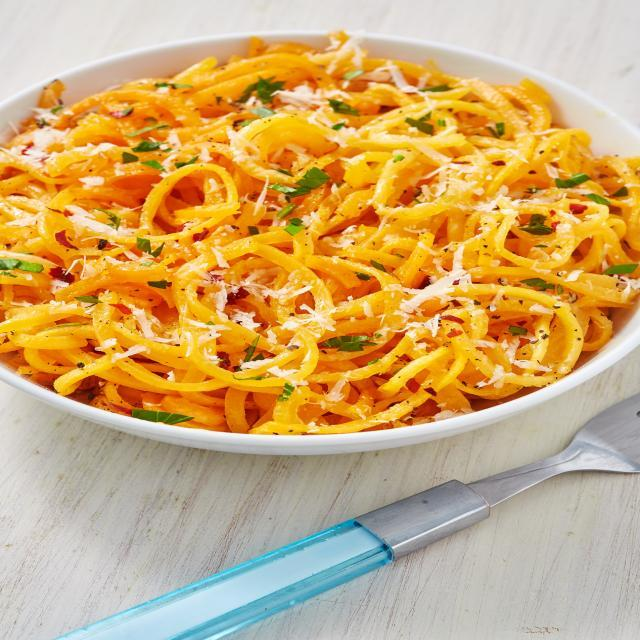noodle: (6, 34, 640, 430)
